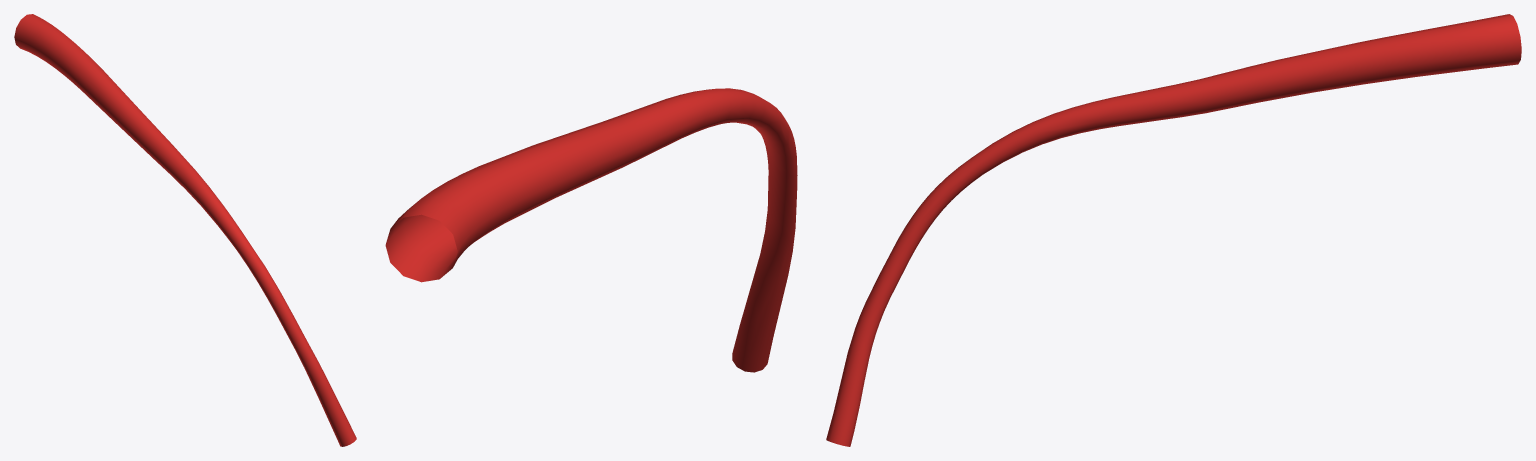
The model's file is circulatorio-infra-orbital-artery-r.glb.
3 renders of one model, left to right at view 1: azimuth 30°, elevation 25°; view 2: azimuth 150°, elevation 25°; view 3: azimuth 270°, elevation 25°, orthographic. The views are drawn at different scales.
Visible parts, largest first — view 1: Infra-orbital artery.r; view 2: Infra-orbital artery.r; view 3: Infra-orbital artery.r.
Part boxes in pixels (<box>): Infra-orbital artery.r: <box>14,14,356,446</box>; Infra-orbital artery.r: <box>385,88,797,372</box>; Infra-orbital artery.r: <box>826,14,1521,446</box>.
Bounding box in the file's own units: 0.00634 × 0.0163 × 0.0271.
